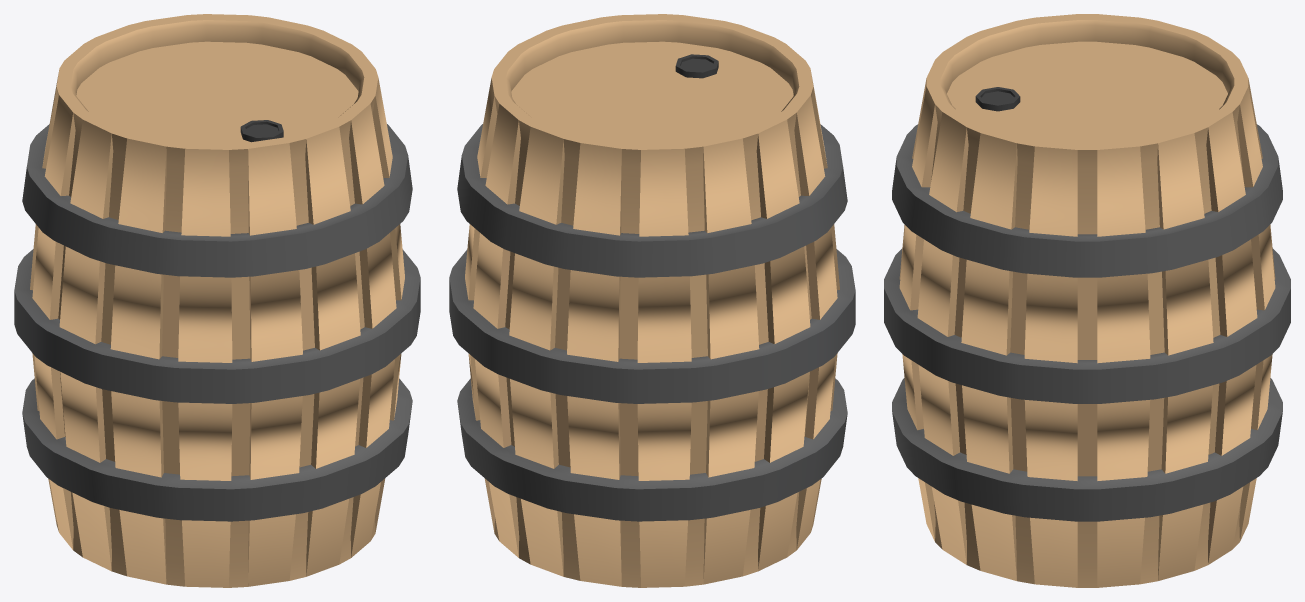
The model's file is Barrel03.fbx.
3 views of the same model, side by side, from view 1: azimuth 30°, elevation 25°; view 2: azimuth 150°, elevation 25°; view 3: azimuth 270°, elevation 25° (orthographic).
Visible parts, largest first — view 1: Barrel03; view 2: Barrel03; view 3: Barrel03.
Boxes of the visible parts, bbox=[...] form: Barrel03: bbox=[14, 14, 420, 587]; Barrel03: bbox=[449, 14, 855, 587]; Barrel03: bbox=[884, 14, 1290, 587].
Size of the model in its own units: 0.9165 by 0.9165 by 1.09.
